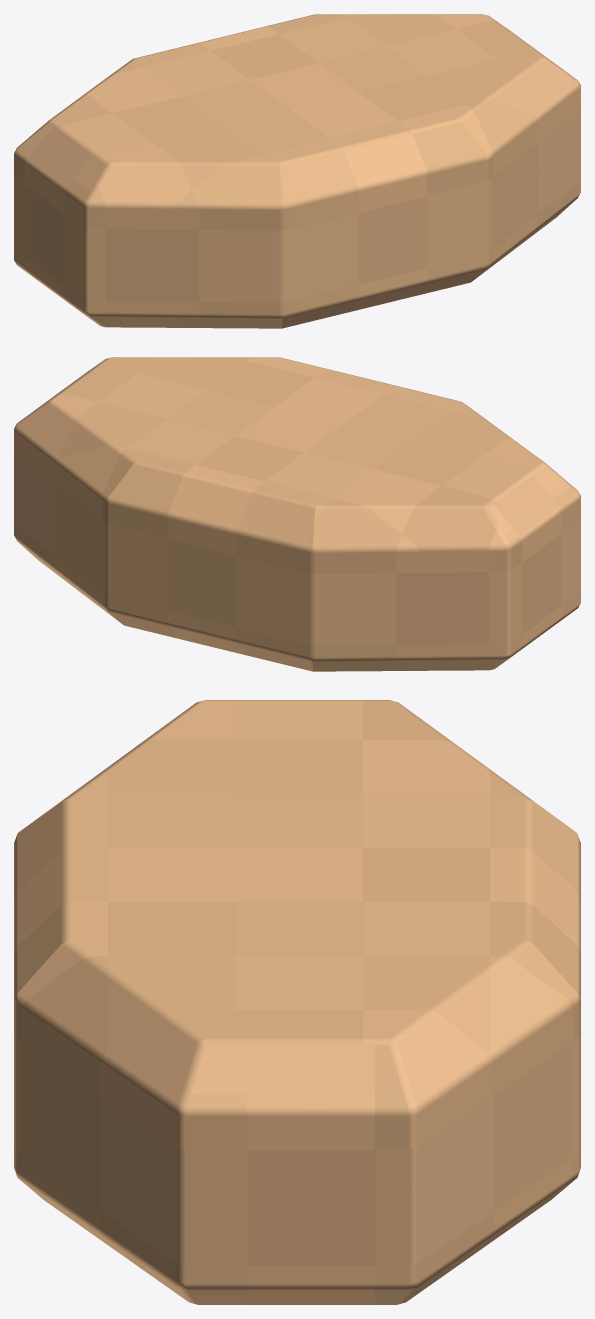
The model's file is Soap-cake.glb.
3 views of the same model, one above another, from view 1: azimuth 30°, elevation 25°; view 2: azimuth 150°, elevation 25°; view 3: azimuth 270°, elevation 25° (orthographic). The views are drawn at different scales.
Visible parts, largest first — view 1: Soap-cake; view 2: Soap-cake; view 3: Soap-cake.
Part boxes in pixels (<box>): Soap-cake: <box>14,14,580,328</box>; Soap-cake: <box>14,357,580,671</box>; Soap-cake: <box>14,700,580,1304</box>.
Bounding box in the file's own units: 0.2827 × 0.088 × 0.1737.
Materials: 1 (1 with a texture image).
